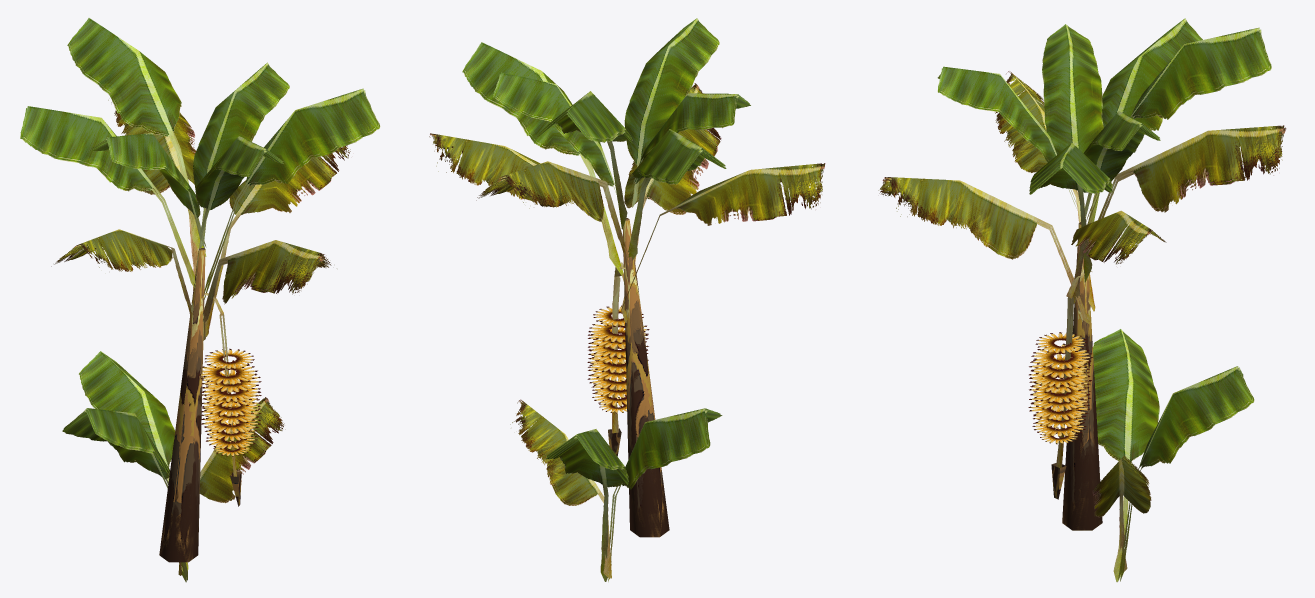
File: banana_2.glb
3 renders of one model, left to right at view 1: azimuth 30°, elevation 25°; view 2: azimuth 150°, elevation 25°; view 3: azimuth 270°, elevation 25°, orthographic. The views are drawn at different scales.
Parts seen in each view (by area): view 1: banana_2; view 2: banana_2; view 3: banana_2.
Boxes of the visible parts, x1,y1,x2,y2 form: banana_2: [20, 18, 380, 582]; banana_2: [429, 18, 825, 581]; banana_2: [878, 18, 1286, 582].
Bounding box in the file's own units: 10.84 × 14.98 × 10.86.
1 material, 1 textured.
